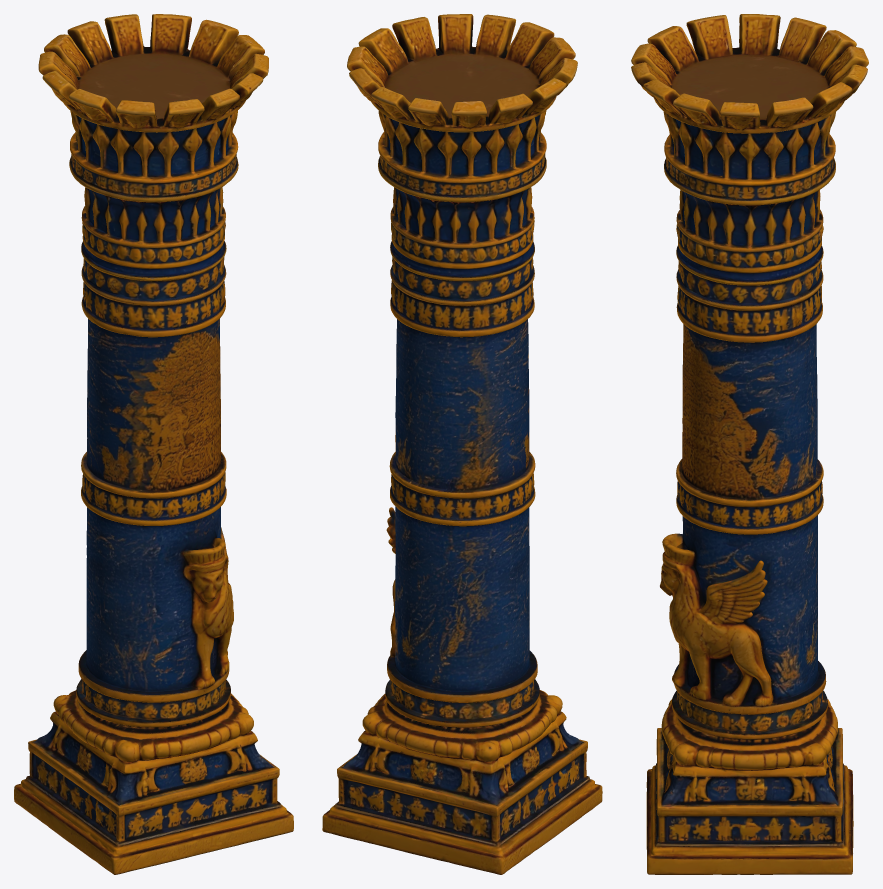
Rendered from اعمدة.glb.
3 views of the same model, side by side, from view 1: azimuth 30°, elevation 25°; view 2: azimuth 150°, elevation 25°; view 3: azimuth 270°, elevation 25° (orthographic).
Visible parts, largest first — view 1: world; view 2: world; view 3: world.
Part boxes in pixels (left/top/right/bottom): world: left=14, top=14, right=293, bottom=874; world: left=322, top=14, right=602, bottom=874; world: left=631, top=14, right=868, bottom=874.
Size of the model in its own units: 0.2744 by 0.9998 by 0.2794.
1 material, 1 textured.
